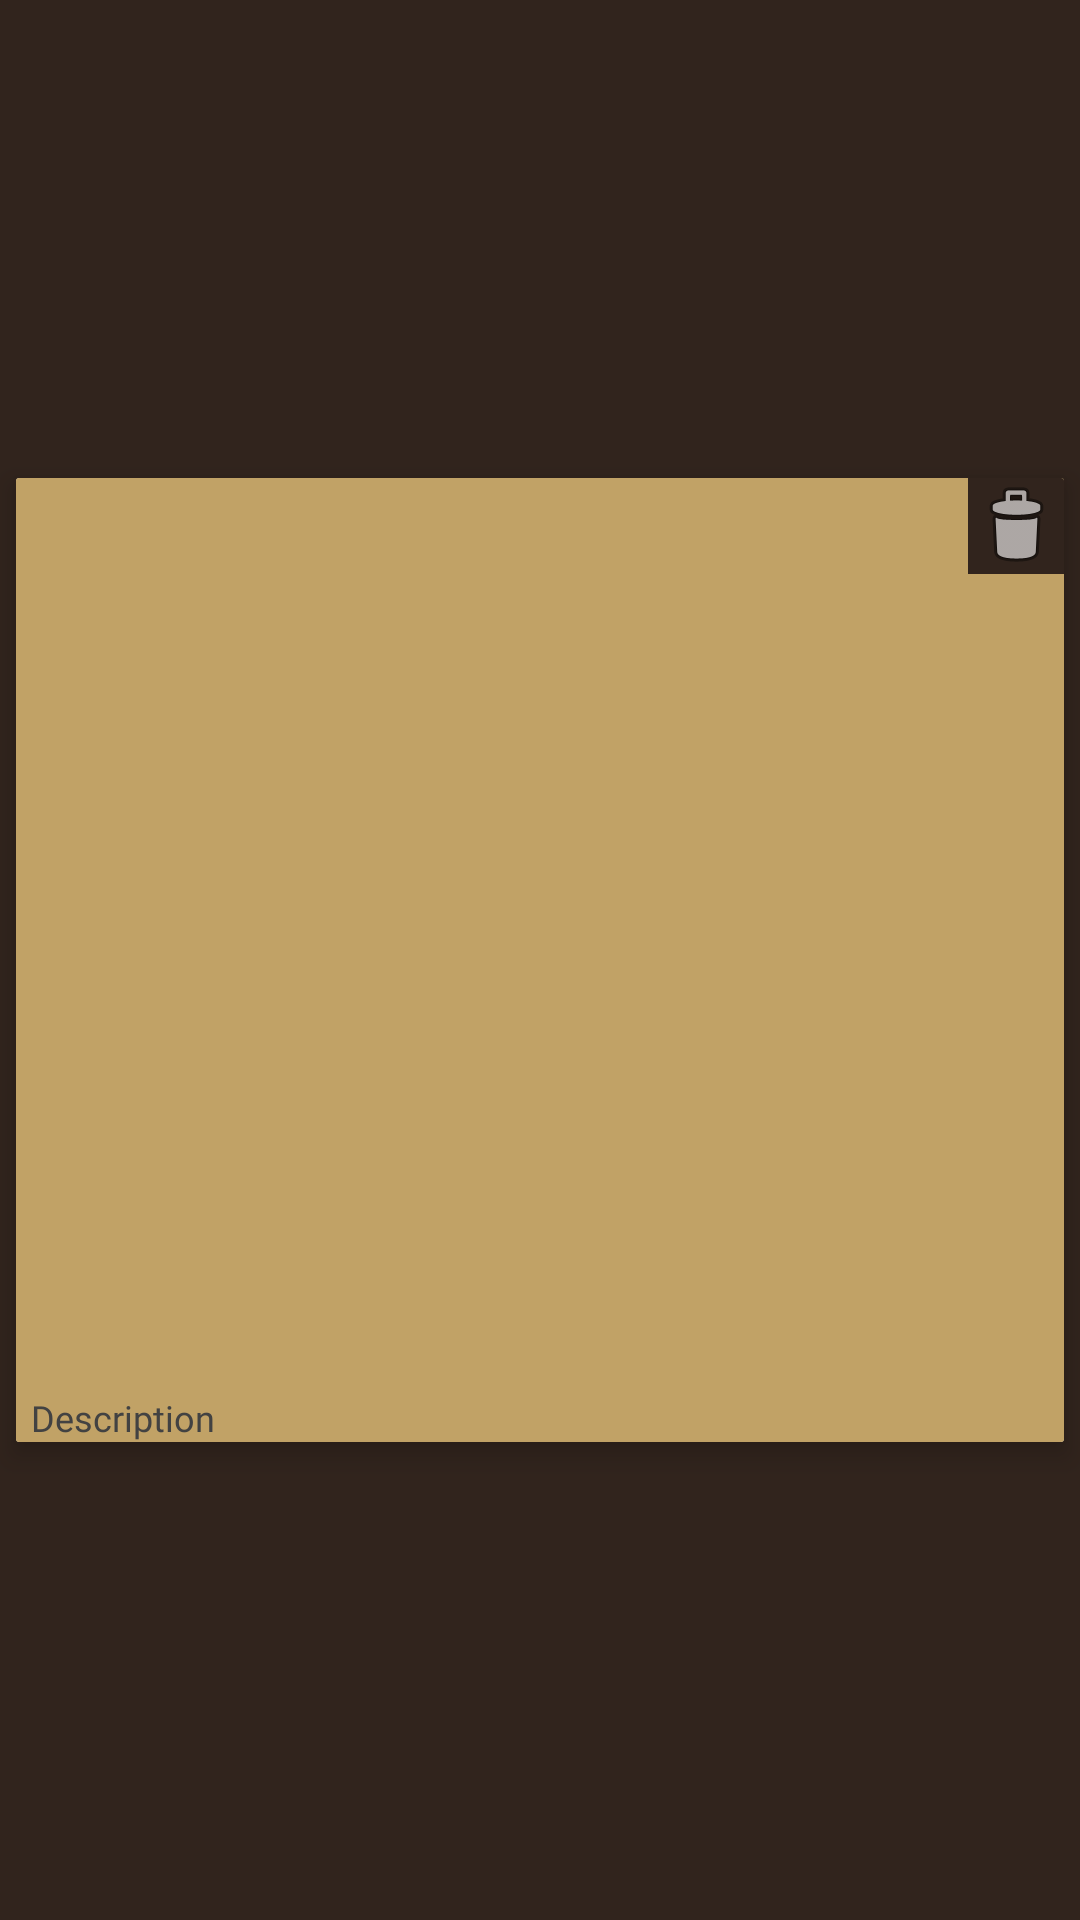

Icons on this 1080px×1920px Android screen, each with its box as (x1, y1, x2, y2):
delete: (992, 478, 1064, 560)
